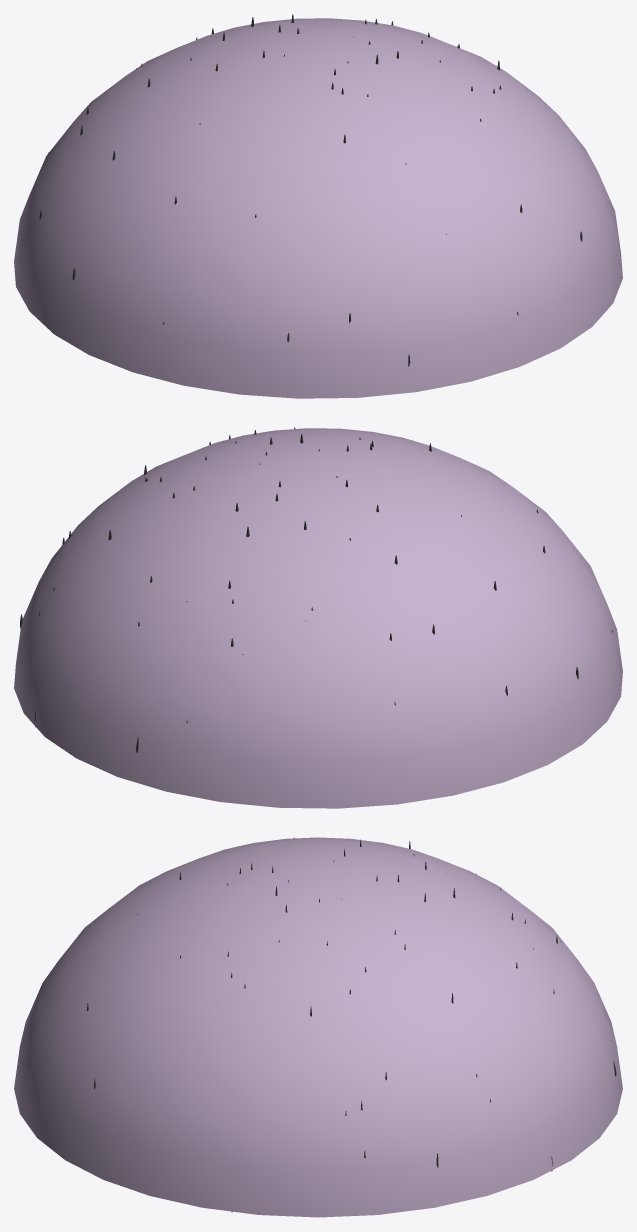
Rendered from particule_000122.obj.
3 views of the same model, one above another, from view 1: azimuth 30°, elevation 25°; view 2: azimuth 150°, elevation 25°; view 3: azimuth 270°, elevation 25° (orthographic).
Visible parts, largest first — view 1: Sphère, pluie_Cube.043; view 2: Sphère, pluie_Cube.043; view 3: Sphère, pluie_Cube.043.
Part boxes in pixels (box(x1,y1,x2,y2)): Sphère: box(14, 18, 622, 398); pluie_Cube.043: box(39, 14, 582, 366); Sphère: box(14, 428, 622, 808); pluie_Cube.043: box(20, 427, 612, 752); Sphère: box(14, 837, 622, 1217); pluie_Cube.043: box(29, 838, 616, 1212).
Bounding box in the file's own units: 63430 × 25833 × 63430.
